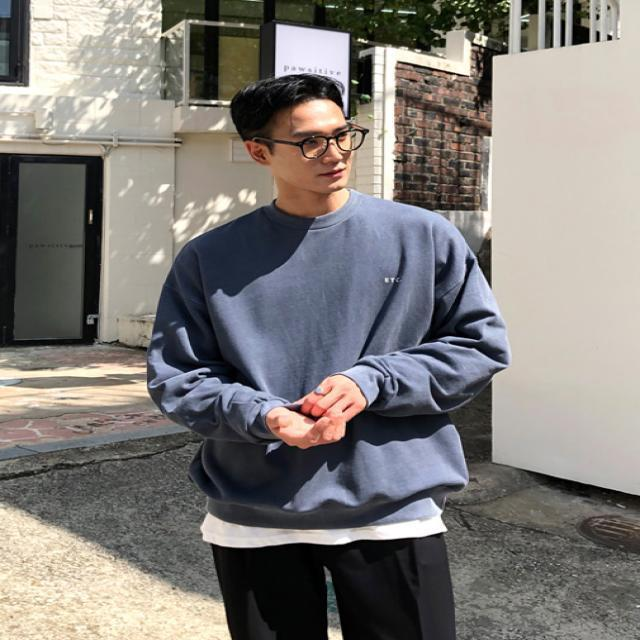short sleeve shirt: (197, 509, 452, 551)
sweater: (142, 188, 514, 530)
trousers: (209, 533, 460, 640)
